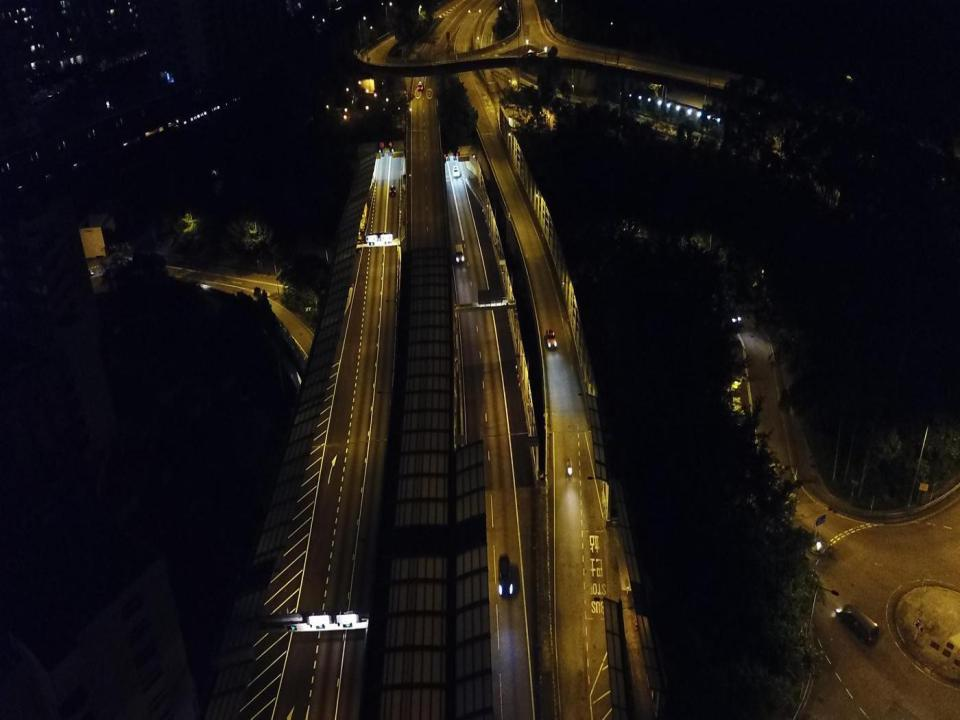car: (498, 554, 513, 596), (546, 327, 558, 350), (520, 49, 540, 62), (451, 164, 460, 178), (416, 80, 425, 92), (389, 184, 397, 197)
van: (840, 604, 880, 645), (454, 242, 466, 264)
